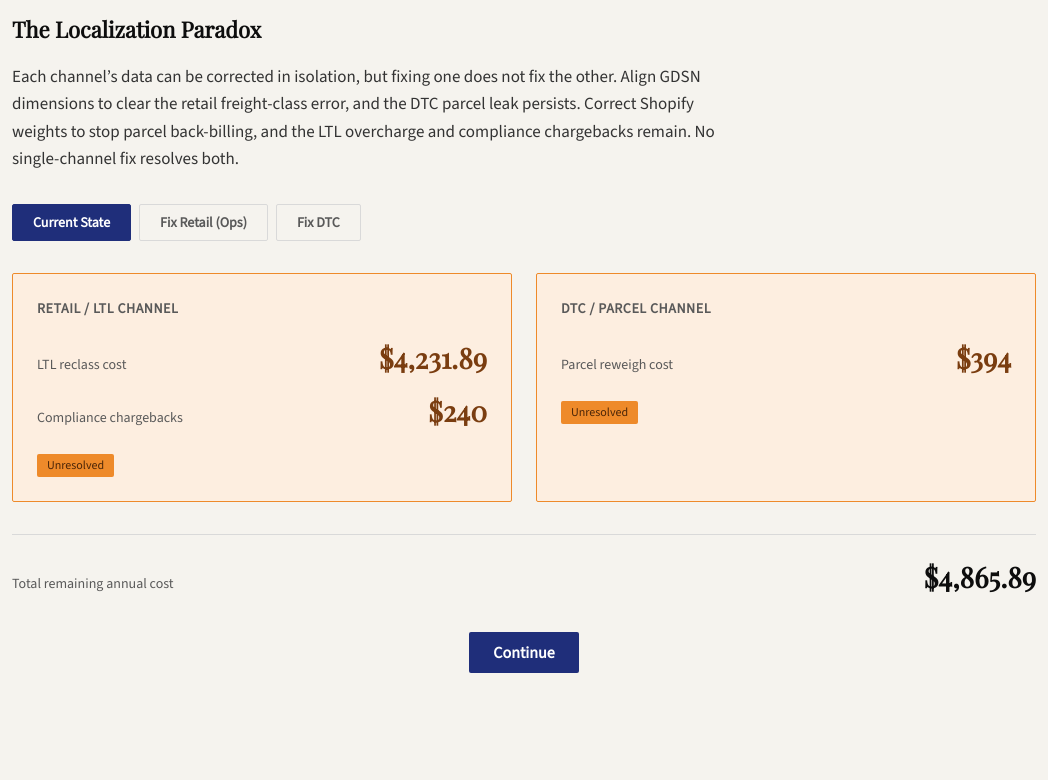
ParadoxToggle › no toggle state shows both channels as Fixed simultaneously
The width and height of the screenshot is (1048, 780).
Check: the text "Unresolved" is shown 2 times, box [37,454,114,477]; [561,401,638,424]
Note: Fix Retail (Ops): one fixed, one unresolved
Click the button "Fix Retail (Ops)" at {"x": 204, "y": 222}, box [139,204,268,241]
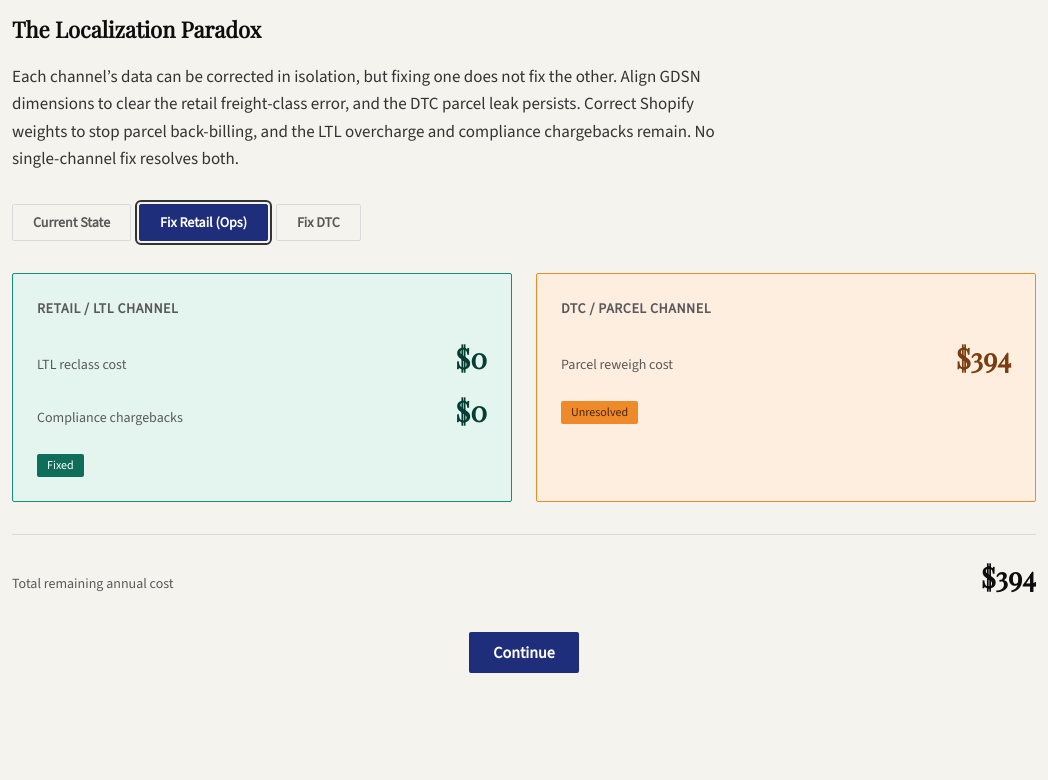
Check: the text "Fixed" is shown once, box [37,454,84,477]
Check: the text "Unresolved" is shown once, box [561,401,638,424]
Note: Fix DTC: one fixed, one unresolved
Click the button "Fix DTC" at {"x": 318, "y": 222}, box [276,204,361,241]
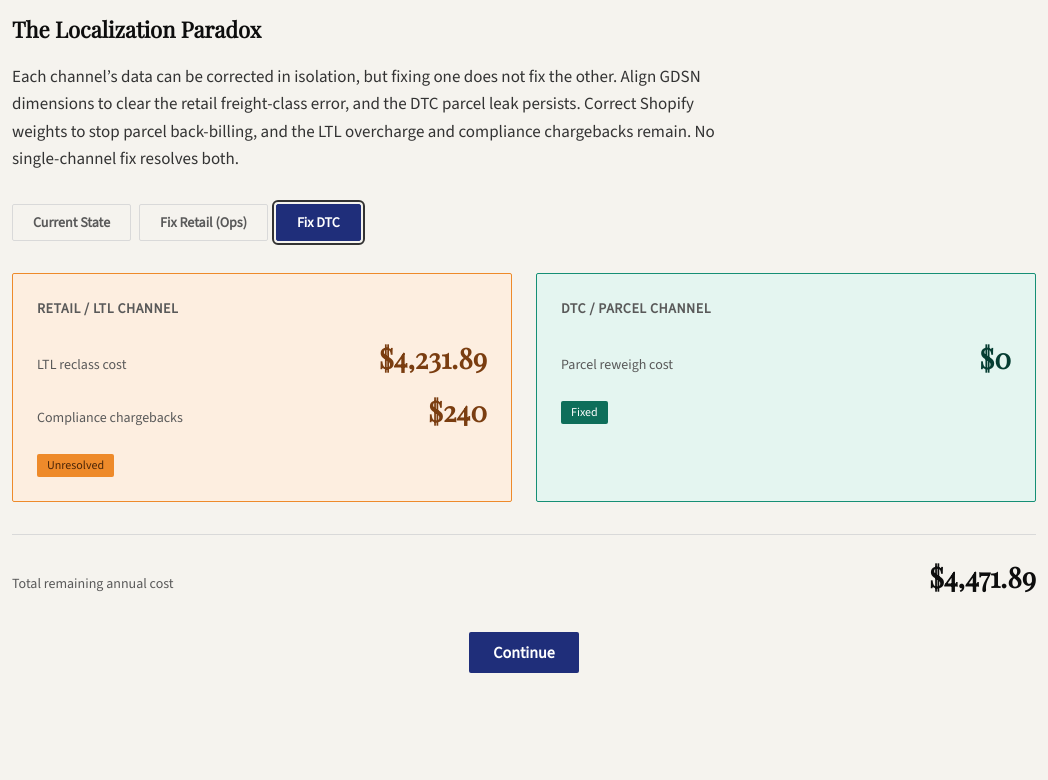
Check: the text "Fixed" is shown once, box [561,401,608,424]
Check: the text "Unresolved" is shown once, box [37,454,114,477]
Note: Back to current state: both unresolved
Click the button "Current State" at {"x": 72, "y": 222}, box [12,204,131,241]
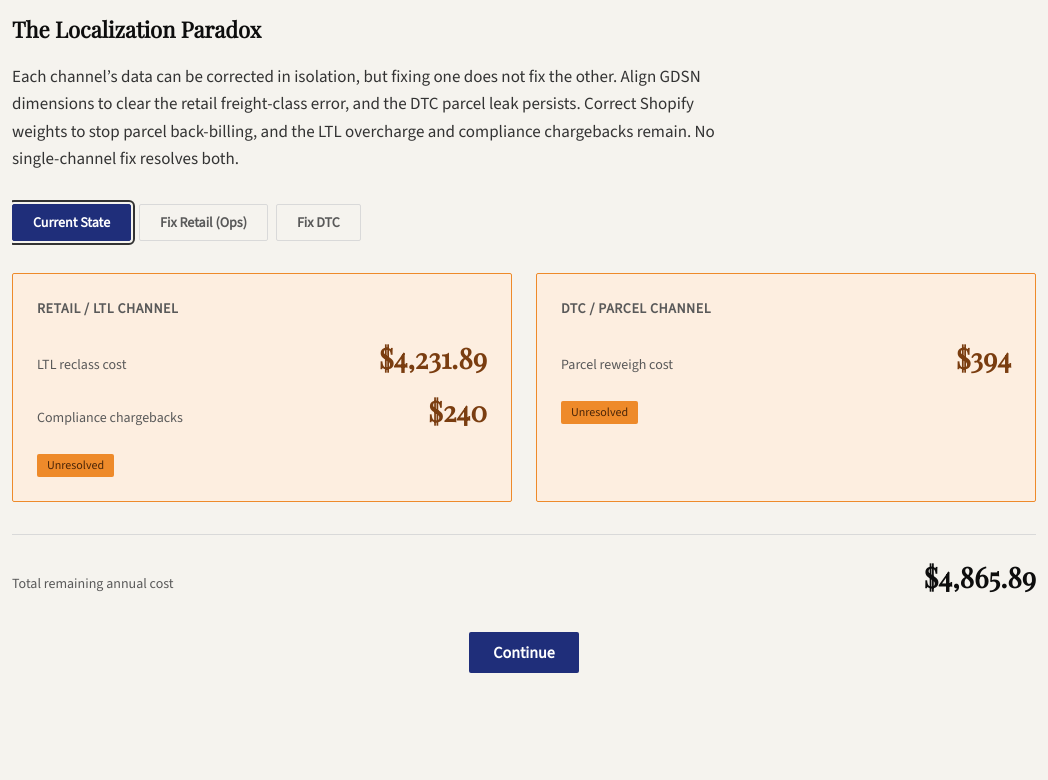
Check: the text "Unresolved" is shown 2 times, box [37,454,114,477]; [561,401,638,424]
Check: the text "Fixed" is not shown
